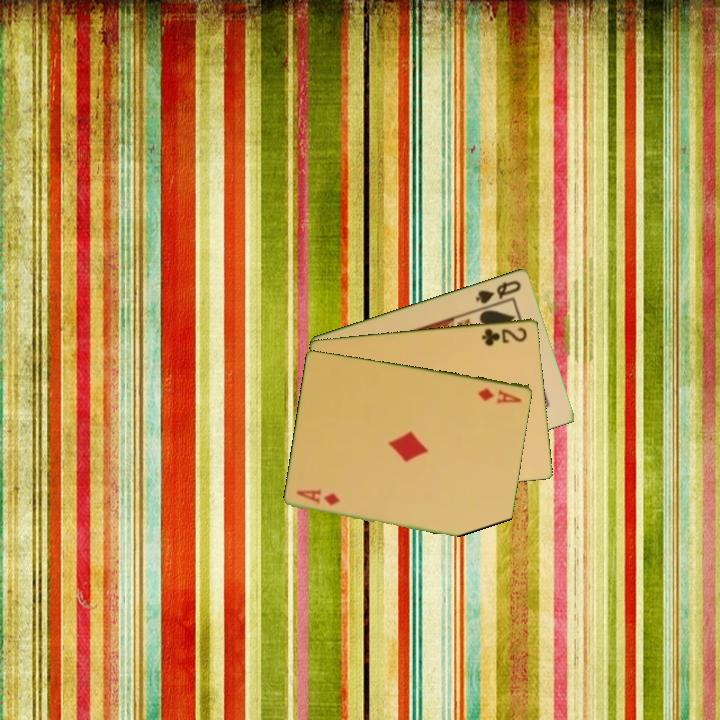2c: (478, 323, 530, 348)
Ad: (474, 384, 525, 406), (293, 486, 344, 508)
Qs: (472, 276, 524, 306)
